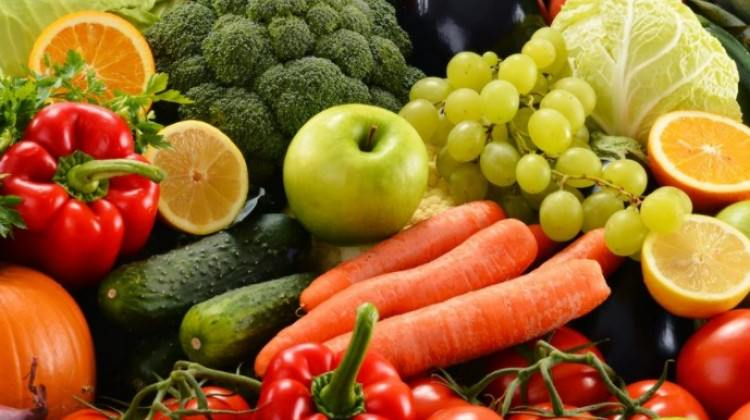elma: (291, 102, 425, 240)
